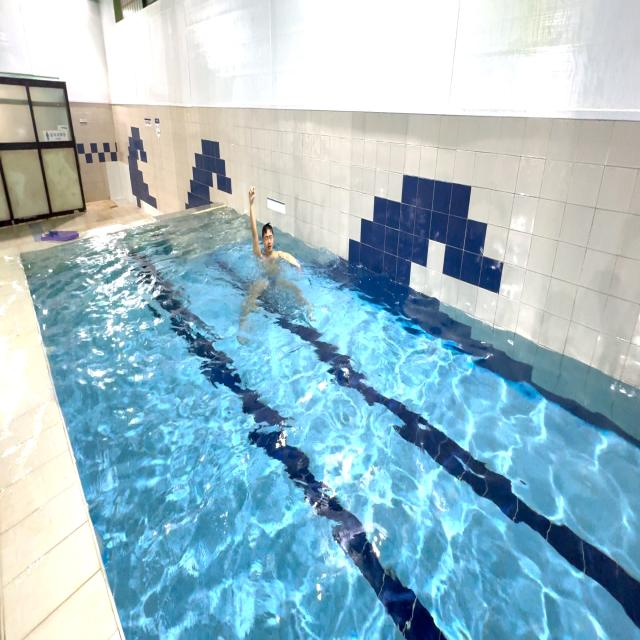Drowning: (234, 176, 312, 356)
